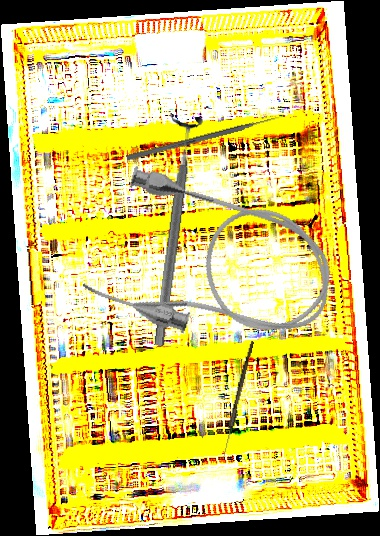Cannula: (78, 160, 348, 369)
Fixation Ring: (140, 113, 206, 348)
Pusher: (126, 112, 286, 162)
Surgical Spoon: (220, 340, 255, 460)
